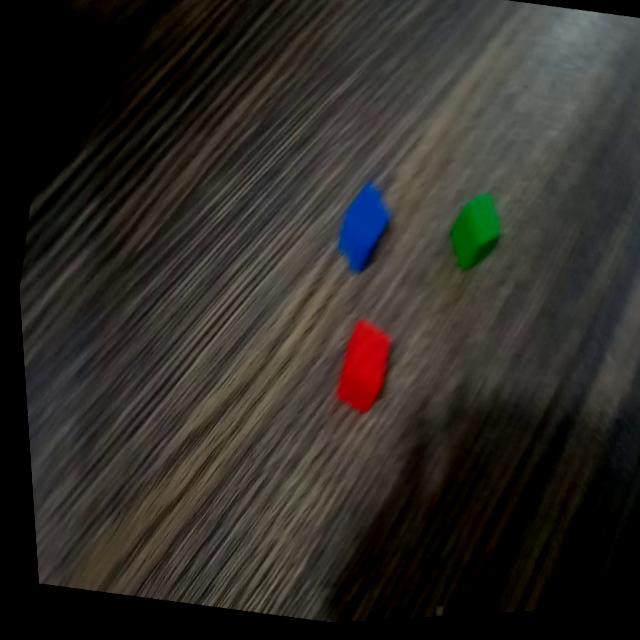cube: (321, 315, 395, 421), (325, 180, 398, 283), (435, 189, 510, 286)
